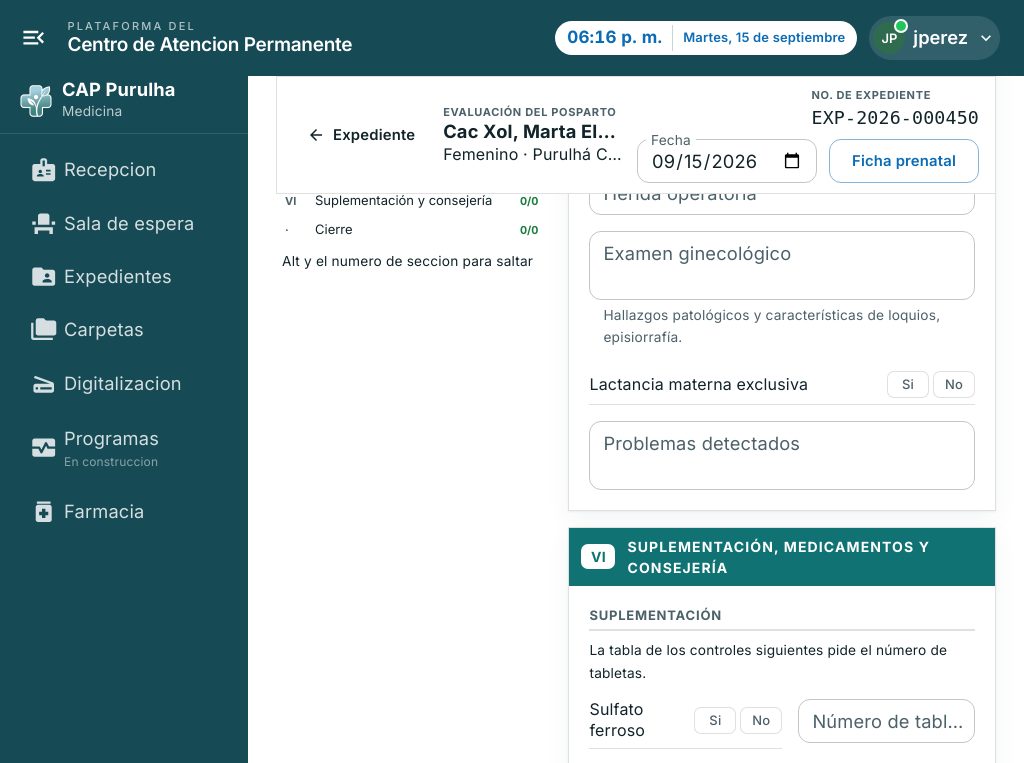
Test case: la evaluación del posparto › el «¿por qué no?» aparece cuando la lactancia exclusiva es que no
(page scrolled)
Expected: the field labelled "¿Por qué no?" is not shown
Click the radio button labelled "No" below "Examen ginecológico": (954, 384) 933,371 -> 975,398
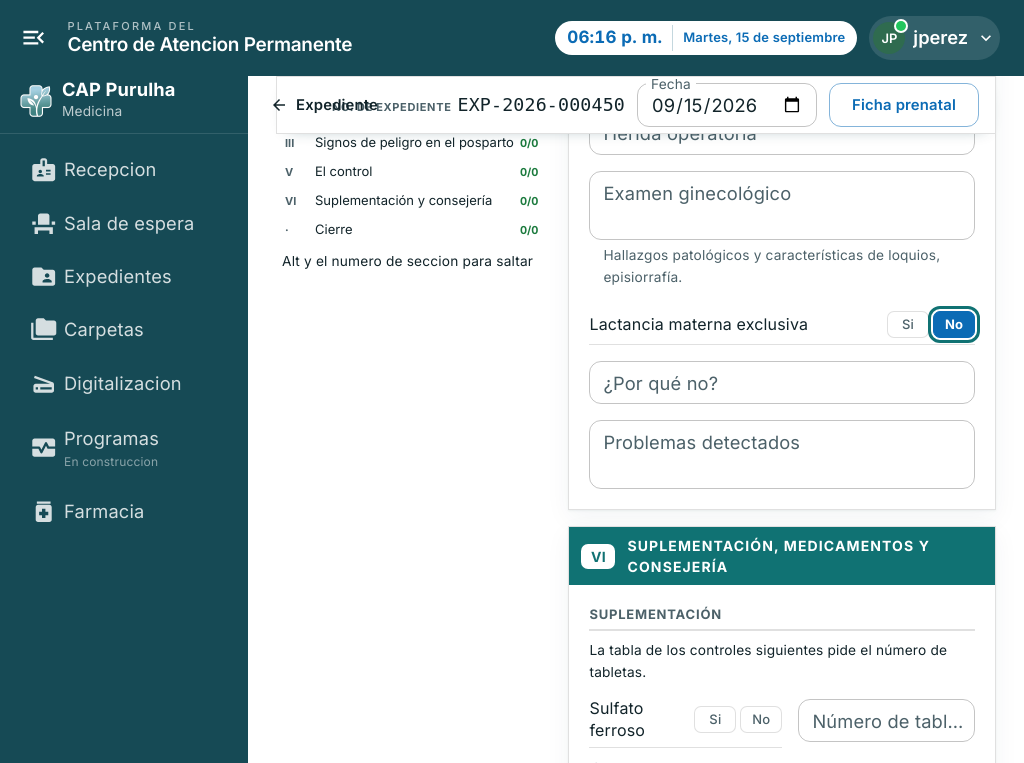
Now the field labelled "¿Por qué no?" is shown, box 590,361 -> 975,404
